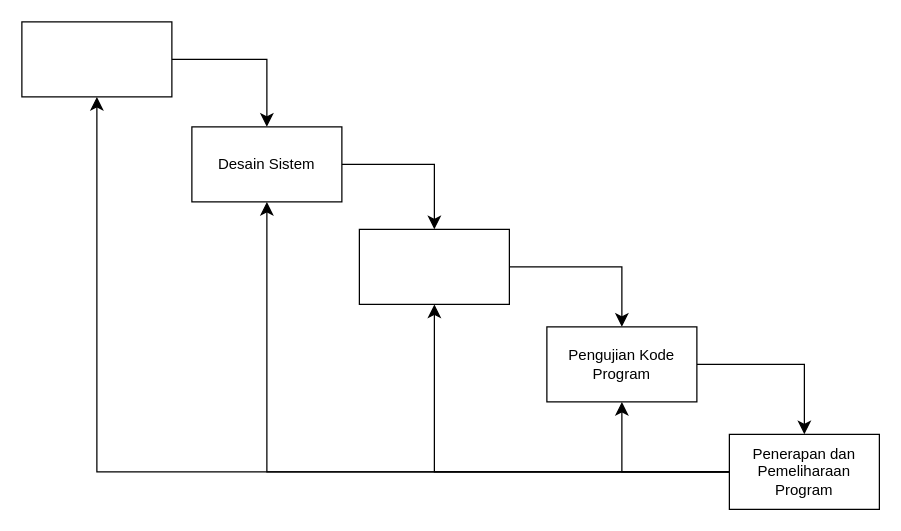
Some shapes in this 901 by 531 pixel diagram are drawn without their labels. The shapes that lost their labels are listed below. From the top down, each one's centre as x and y in pixels, then its label:
At [96,59]: "Analisis Sistem".
At [433,266]: "Implementasi Kode Program".
